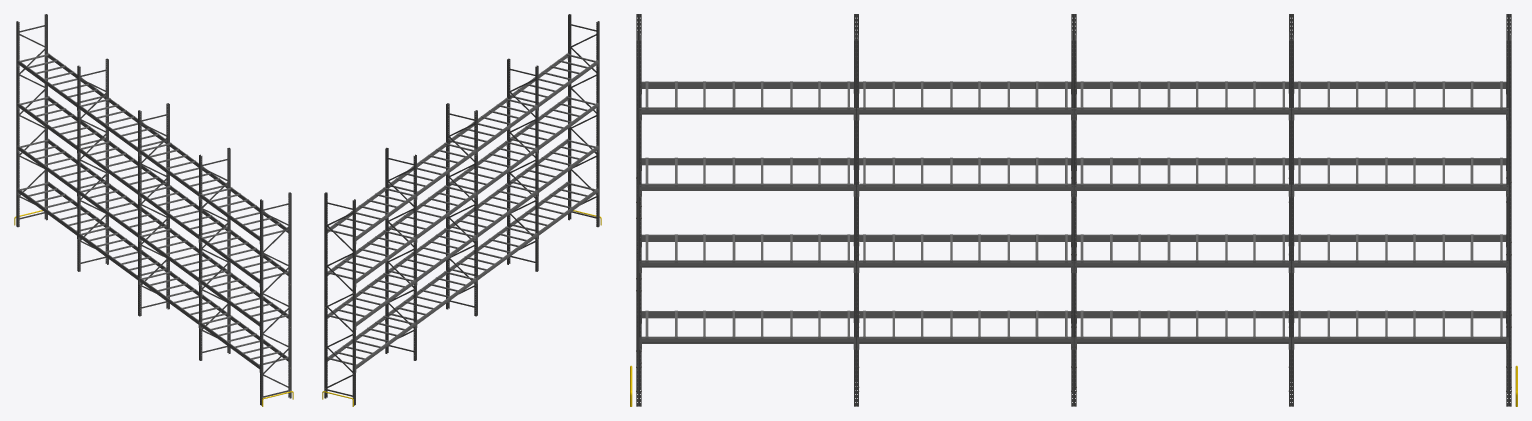
Rendered from Shelf.glb.
3 renders of one model, left to right at view 1: azimuth 30°, elevation 25°; view 2: azimuth 150°, elevation 25°; view 3: azimuth 270°, elevation 25°, orthographic. The views are drawn at different scales.
Visible parts, largest first — view 1: Pillar, Beam_001, Beam_002; view 2: Pillar, Beam_001, Beam_002; view 3: Beam_002, Beam_001, Pillar.
Boxes of the visible parts, <box> form: Pillar: <box>16,14,291,405</box>; Beam_001: <box>17,138,288,372</box>; Beam_002: <box>17,53,288,286</box>; Pillar: <box>324,14,599,405</box>; Beam_001: <box>327,138,598,372</box>; Beam_002: <box>327,53,598,286</box>; Beam_002: <box>639,81,1508,196</box>; Beam_001: <box>639,234,1508,349</box>; Pillar: <box>636,14,1511,406</box>.
Bounding box in the file's own units: 1.13 × 7.06 × 15.52.
Materials: 4 (1 with a texture image).
